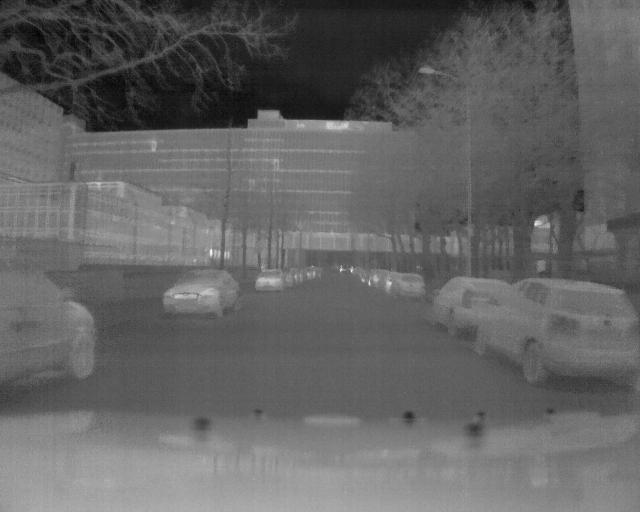car: (475, 277, 640, 384), (1, 254, 97, 393), (428, 276, 510, 336), (161, 268, 243, 318), (390, 271, 425, 302), (254, 267, 286, 291)
